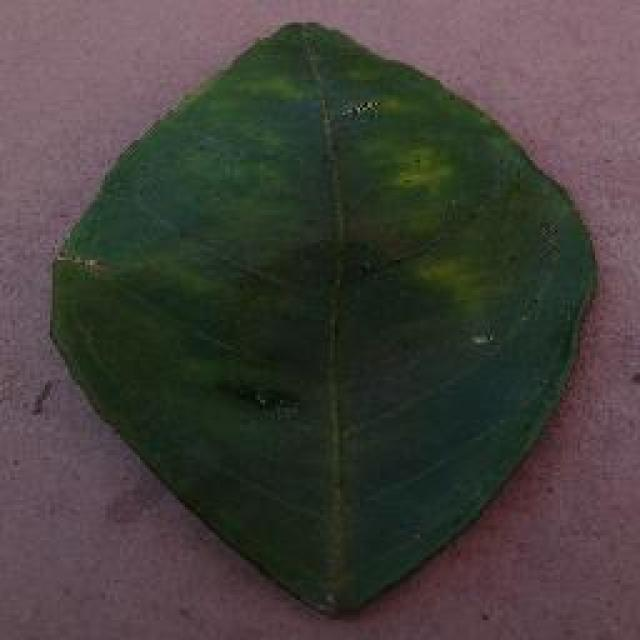Orange_Haunglongbing_Citrus_greening: (78, 66, 566, 496)
